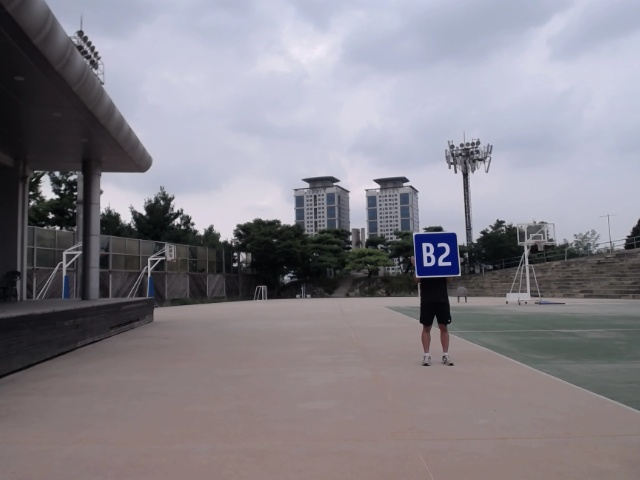delivery_b2: (412, 231, 462, 278)
